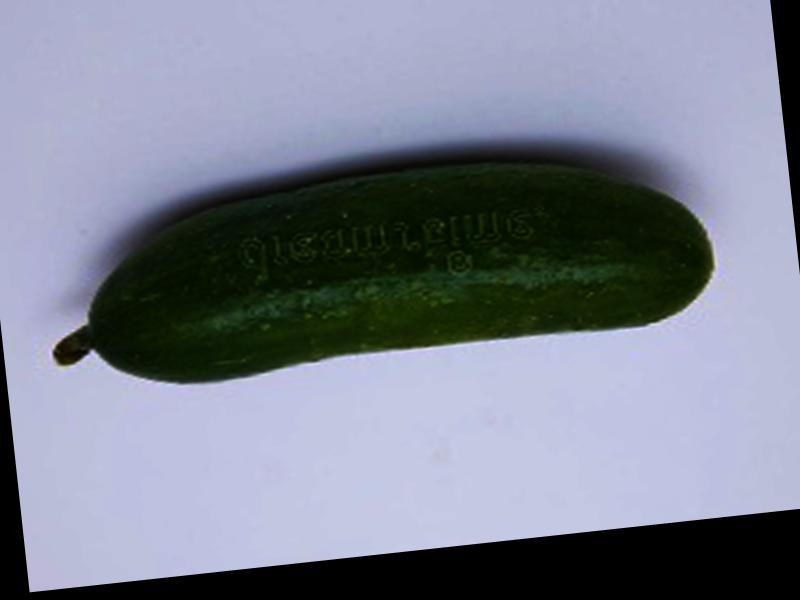Cucumber: (38, 136, 720, 397)
